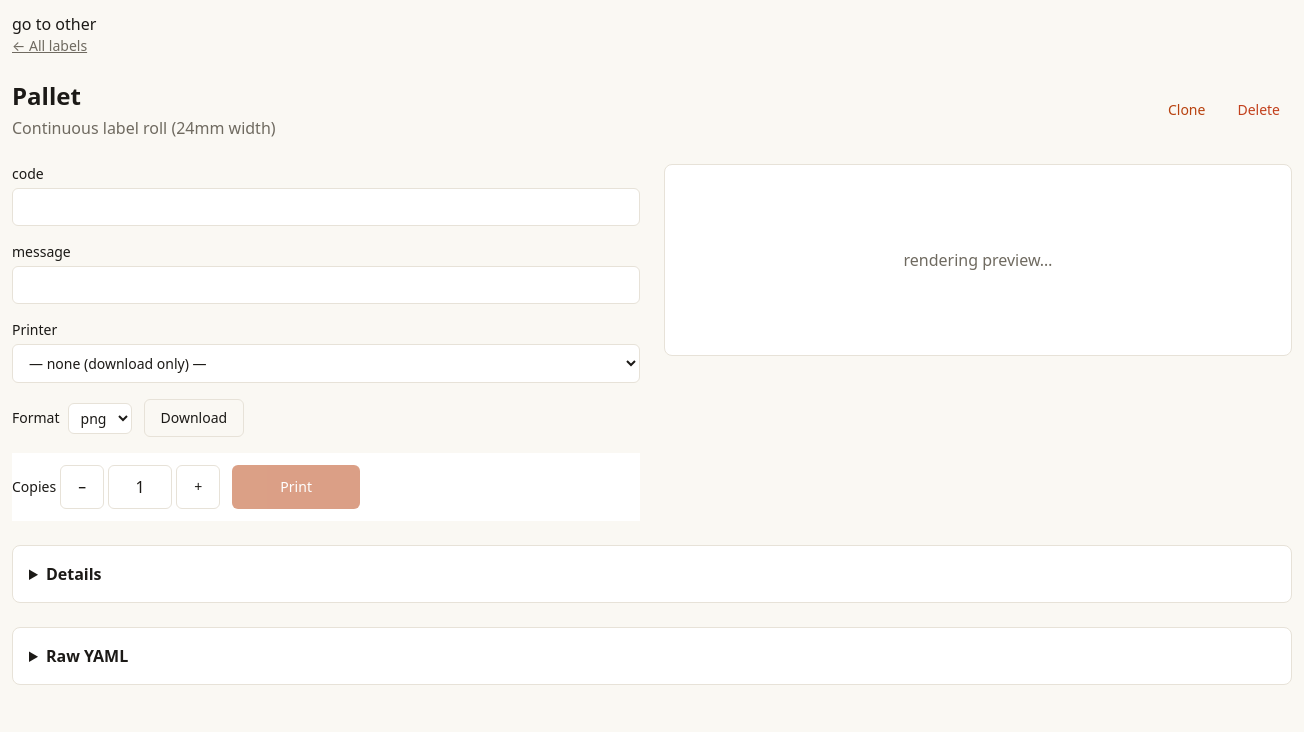
Test case: Template cloning › keeps a source failure visible on the original without retrying create
The image size is (1304, 732).
Click the button "Clone" at (1187, 110), box [1156, 92, 1217, 128]
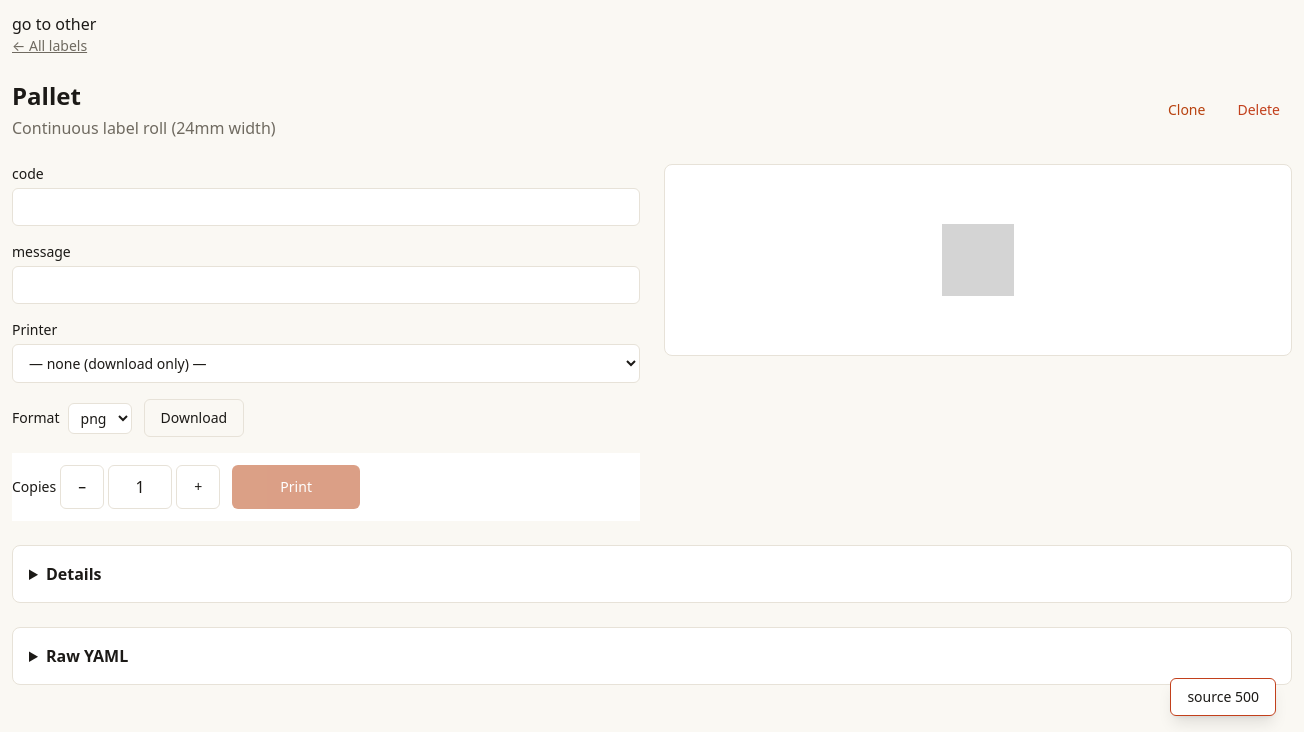
Expected: the heading "Pallet" is shown, [12, 79, 81, 112]
Result: the message reads "source 500" at [1170, 678, 1276, 716]
